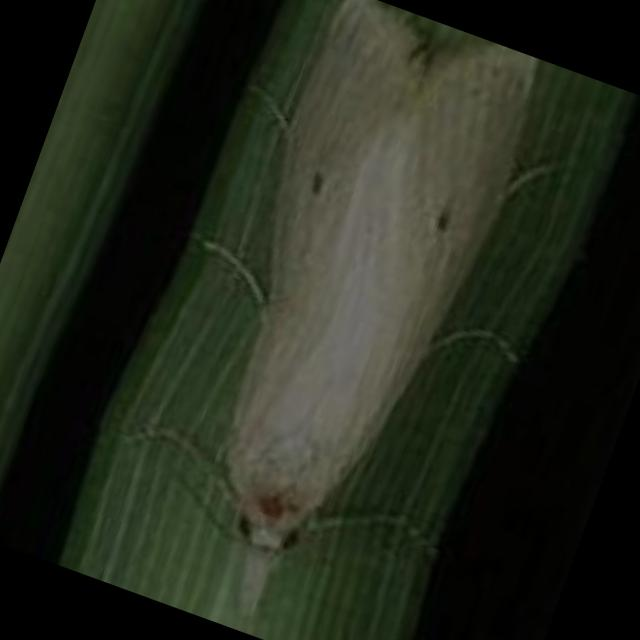stem-borer: (91, 0, 604, 640)
